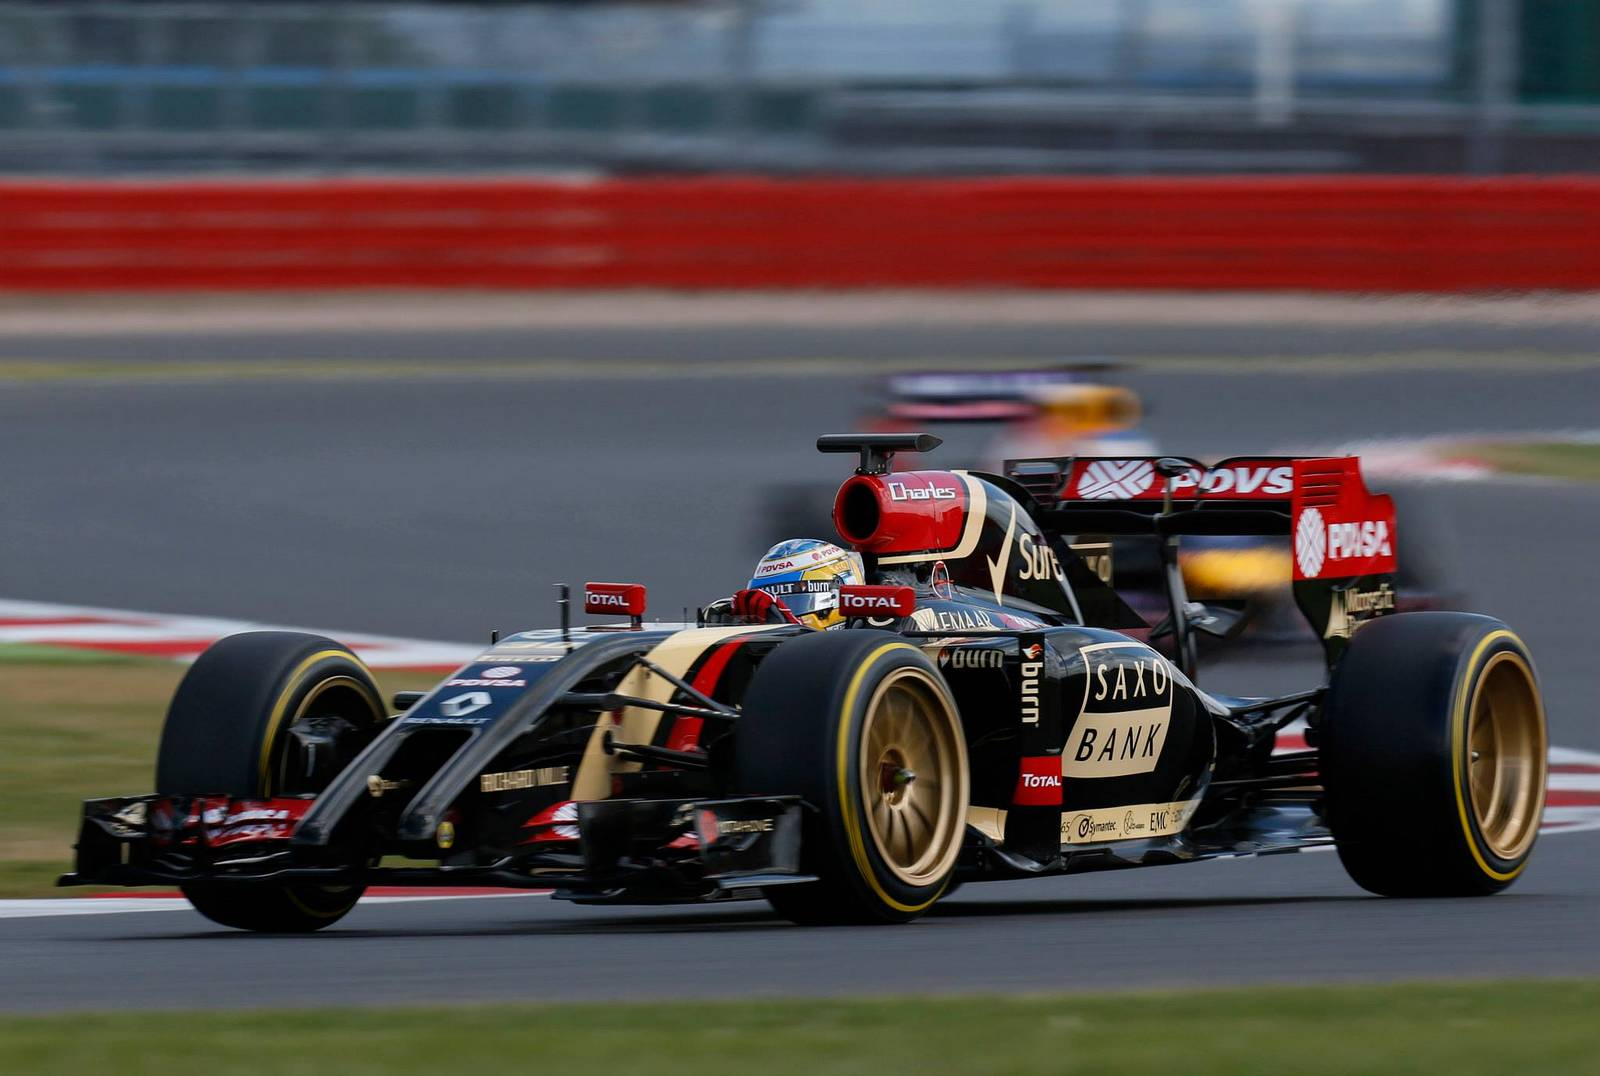f1_car: (37, 397, 1571, 957)
helmet: (729, 524, 882, 653)
